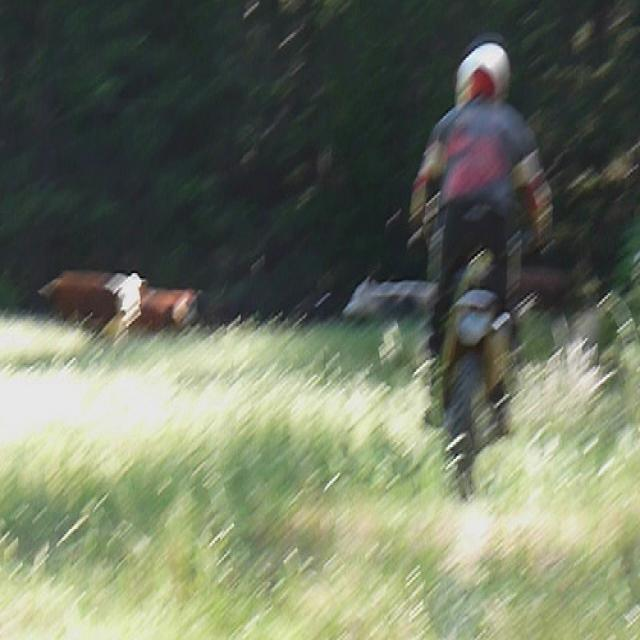motor: (439, 203, 512, 512)
